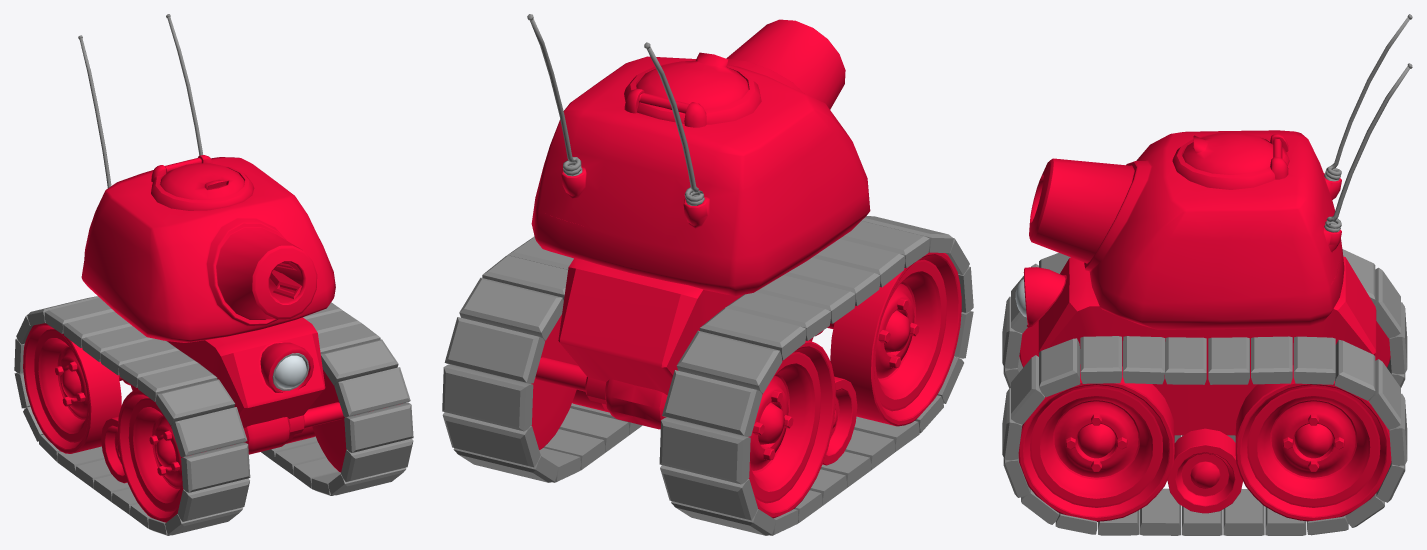
The model's file is MediumTank.fbx.
3 views of the same model, side by side, from view 1: azimuth 30°, elevation 25°; view 2: azimuth 150°, elevation 25°; view 3: azimuth 270°, elevation 25° (orthographic). The views are drawn at different scales.
Visible parts, largest first — view 1: TankTurret_001, TankTracksRight.001, TankTracksLeft.001, TankChassis_001; view 2: TankTurret_001, TankTracksRight.001, TankTracksLeft.001, TankChassis_001; view 3: TankTracksLeft.001, TankTurret_001, TankChassis_001, TankTracksRight.001.
Boxes of the visible parts, <box> form: TankTurret_001: <box>78,14,335,342</box>; TankTracksRight.001: <box>14,296,250,535</box>; TankTracksLeft.001: <box>261,302,413,495</box>; TankChassis_001: <box>101,317,325,483</box>; TankTurret_001: <box>527,14,870,295</box>; TankTracksRight.001: <box>659,216,973,535</box>; TankTracksLeft.001: <box>442,236,642,482</box>; TankChassis_001: <box>558,258,857,465</box>; TankTracksLeft.001: <box>1002,336,1407,535</box>; TankTurret_001: <box>1029,14,1412,329</box>; TankChassis_001: <box>1015,256,1376,513</box>; TankTracksRight.001: <box>1002,249,1407,442</box>.
Bounding box in the file's own units: 139 × 224 × 191.
